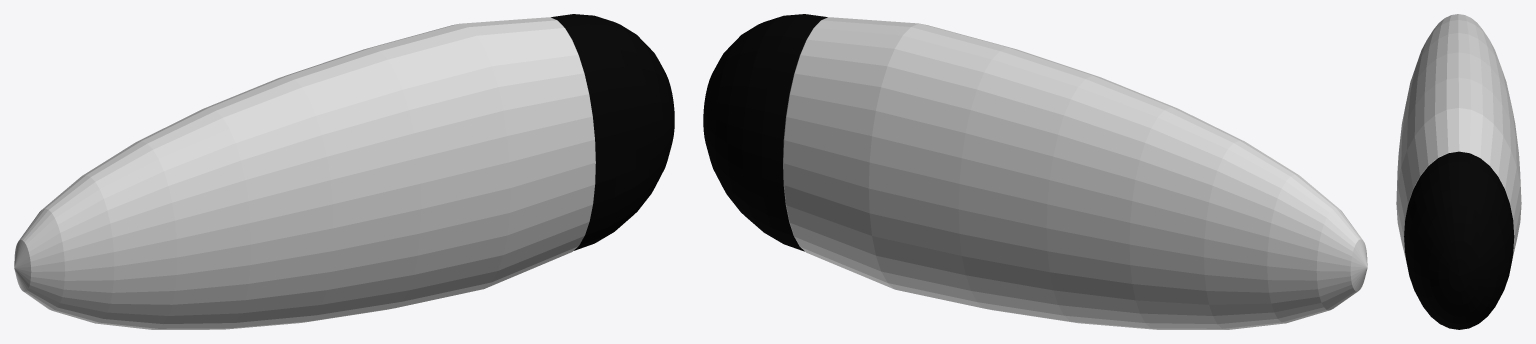
3 views of the same model, side by side, from view 1: azimuth 30°, elevation 25°; view 2: azimuth 150°, elevation 25°; view 3: azimuth 270°, elevation 25° (orthographic). The views are drawn at different scales.
Visible parts, largest first — view 1: 球.001, 球; view 2: 球.001, 球; view 3: 球.001, 球.
Boxes of the visible parts, x1,y1,x2,y2 form: 球.001: (14,17,595,329); 球: (551,14,674,250); 球.001: (783,17,1367,329); 球: (703,14,827,251); 球.001: (1396,14,1521,262); 球: (1404,151,1514,329).
Size of the model in its own units: 25.89 by 9.8 by 5.8.
2 materials, 1 textured.
